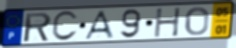9: (119, 8, 143, 39)
A: (83, 10, 116, 41)
C: (50, 9, 80, 43)
H: (153, 6, 183, 39)
O: (184, 6, 210, 37)
R: (23, 11, 53, 44)
